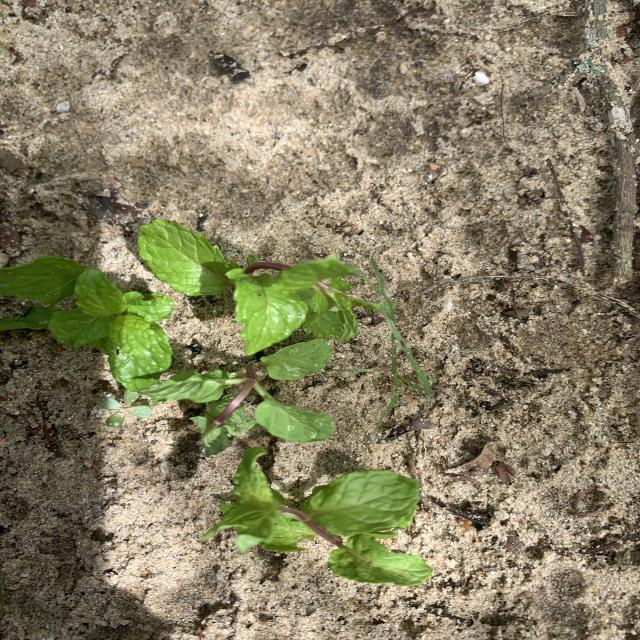crop: (138, 220, 375, 355), (213, 447, 432, 586), (0, 257, 173, 391), (140, 339, 335, 455)
weed: (369, 254, 435, 439), (97, 390, 152, 427)
